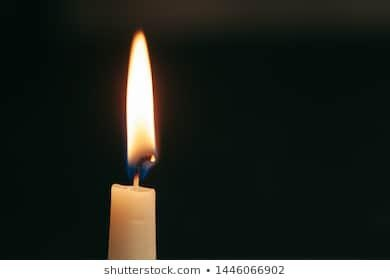fire: (123, 26, 156, 175)
